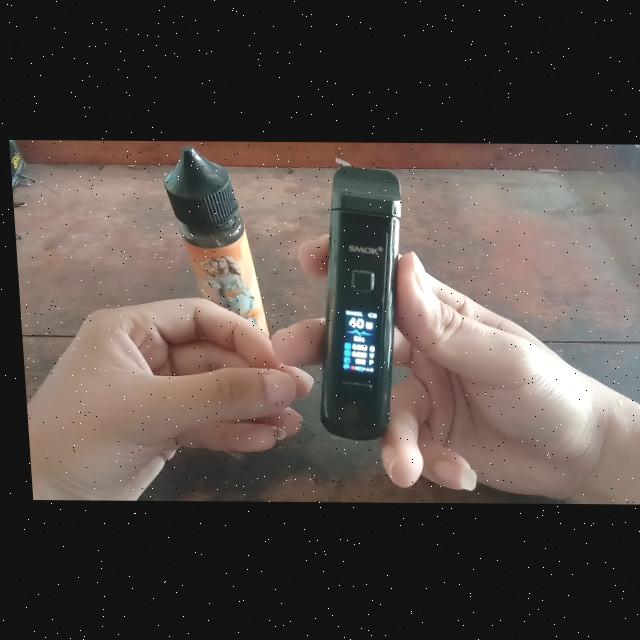vape: (303, 166, 409, 442)
